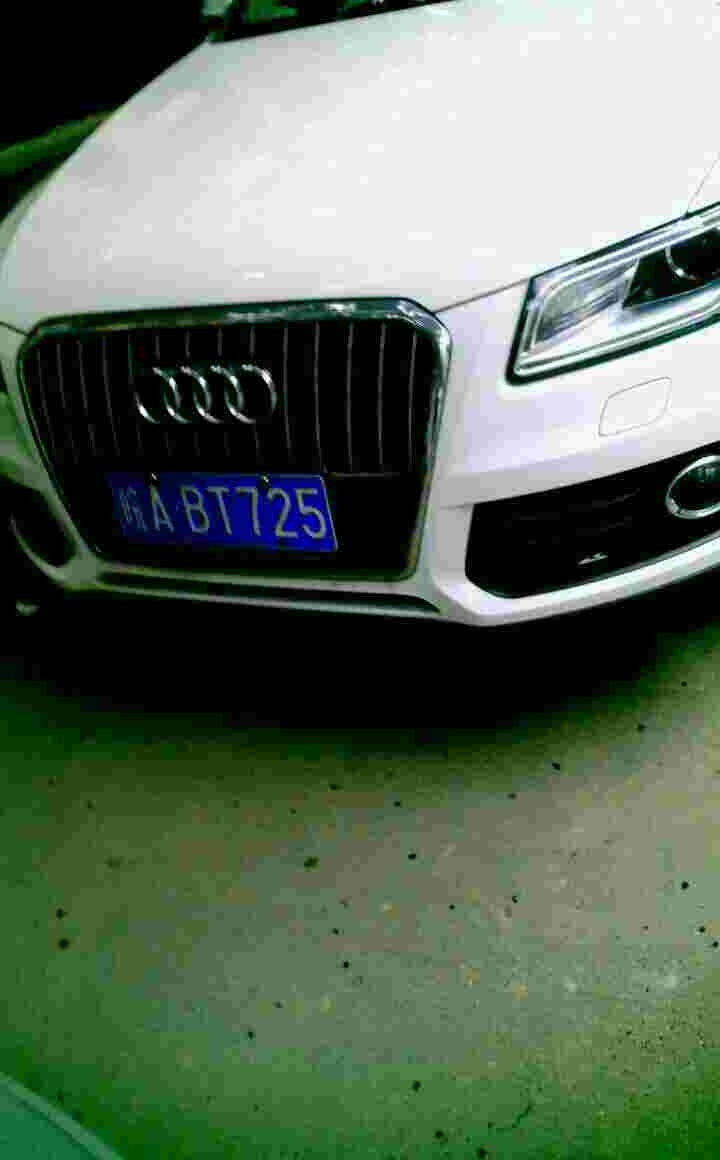license_plate: (99, 475, 324, 554)
